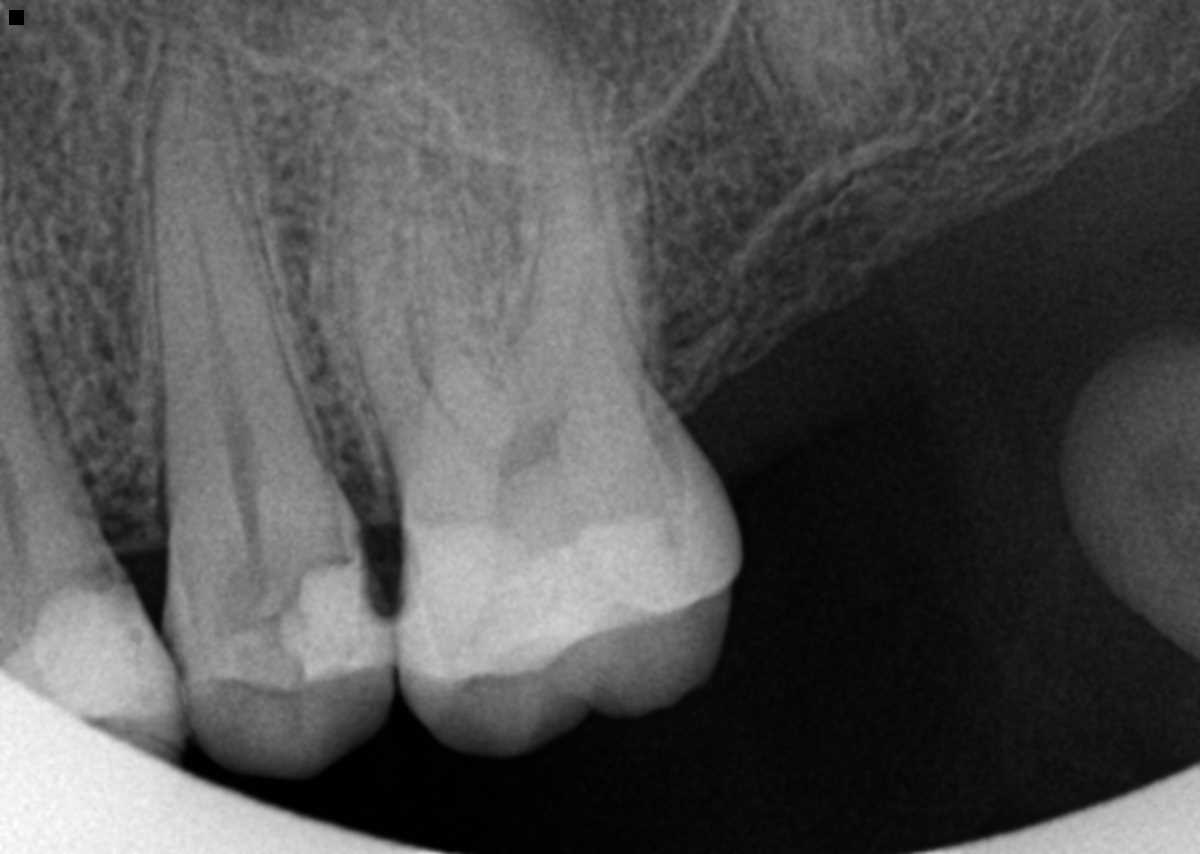Distal Root: (519, 61, 687, 503)
Main Canal: (193, 210, 257, 533)
Main Root: (146, 5, 358, 545), (0, 235, 98, 594)
Mesial Root: (324, 59, 553, 524)
Palatal Root: (399, 0, 649, 474)
